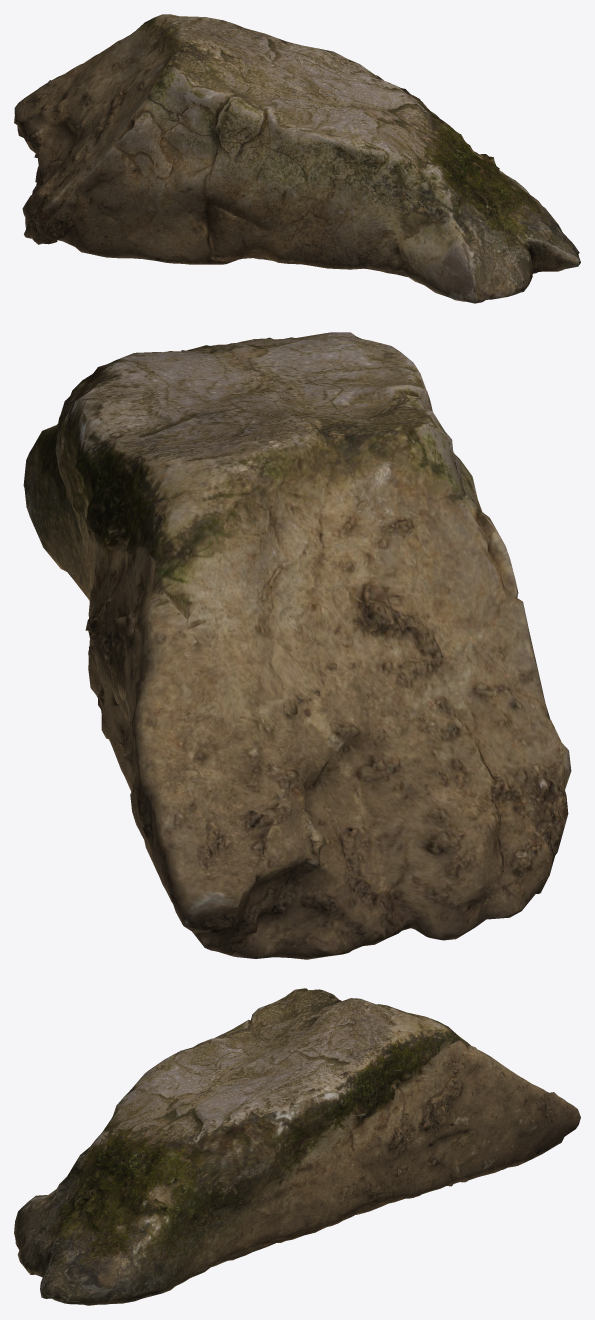
The model's file is rock_mossy_a.glb.
The picture shows the model from 3 angles, top to bottom: view 1: azimuth 30°, elevation 25°; view 2: azimuth 150°, elevation 25°; view 3: azimuth 270°, elevation 25°; orthographic projection. The views are drawn at different scales.
Visible parts, largest first — view 1: rock_mossy_a; view 2: rock_mossy_a; view 3: rock_mossy_a.
Part boxes in pixels (bbox=[...]): rock_mossy_a: bbox=[14, 14, 580, 303]; rock_mossy_a: bbox=[23, 332, 571, 959]; rock_mossy_a: bbox=[14, 988, 580, 1305].
Bounding box in the file's own units: 9.29 × 4.42 × 11.42.
Materials: 1 (1 with a texture image).
